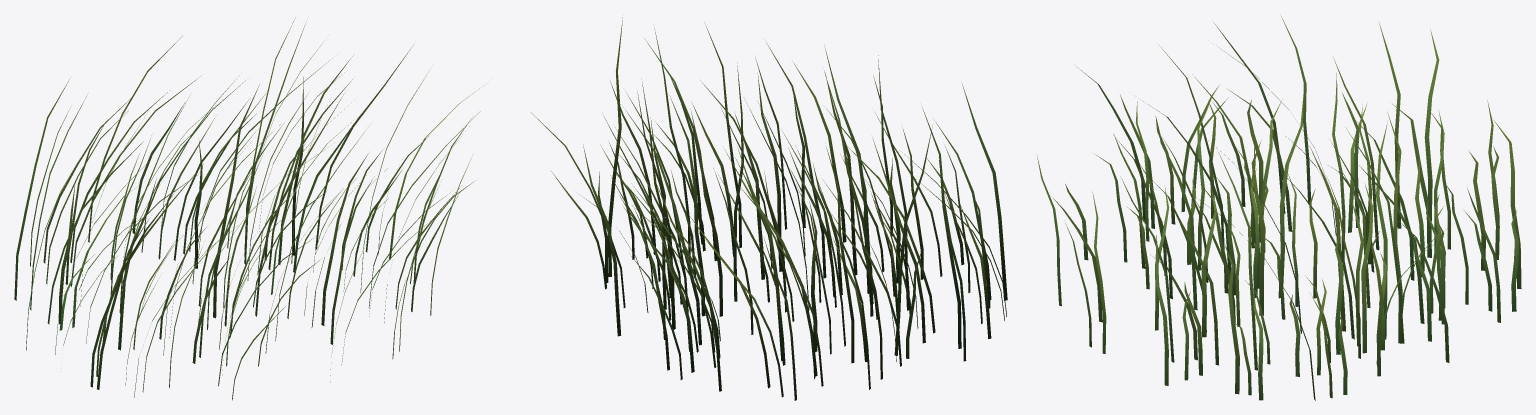
Rendered from seagrass-b.lod0.glb.
3 views of the same model, side by side, from view 1: azimuth 30°, elevation 25°; view 2: azimuth 150°, elevation 25°; view 3: azimuth 270°, elevation 25° (orthographic). The views are drawn at different scales.
Parts seen in each view (by area): view 1: seagrass-b.lod0; view 2: seagrass-b.lod0; view 3: seagrass-b.lod0.
Part boxes in pixels (x1,y1,x2,y2): seagrass-b.lod0: [14, 17, 485, 400]; seagrass-b.lod0: [531, 18, 1007, 400]; seagrass-b.lod0: [1036, 16, 1521, 400].
Bounding box in the file's own units: 1.35 × 0.7197 × 1.22.
